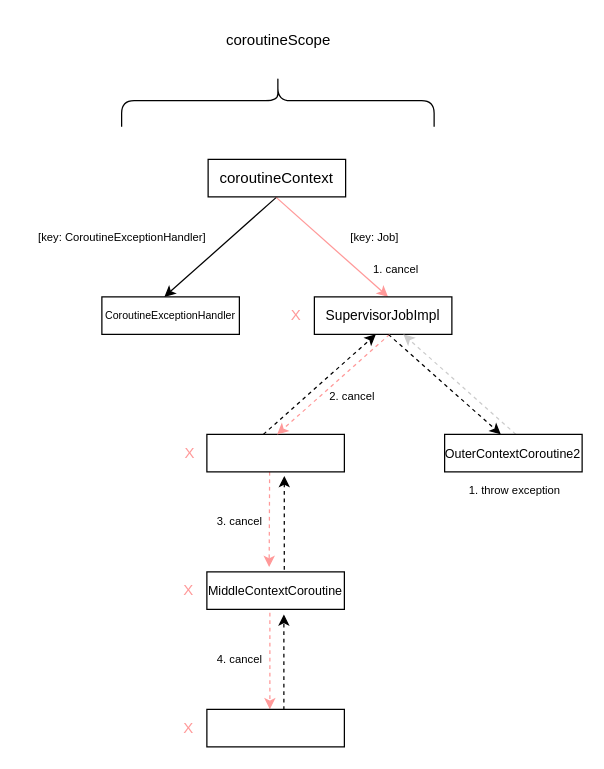
This 604x769 diagram has some shape labels left out. Each missing label, with the centre of its shape:
"InnerContextCoroutine" goes at (275,727).
"OuterContextCoroutine1" goes at (275,452).
